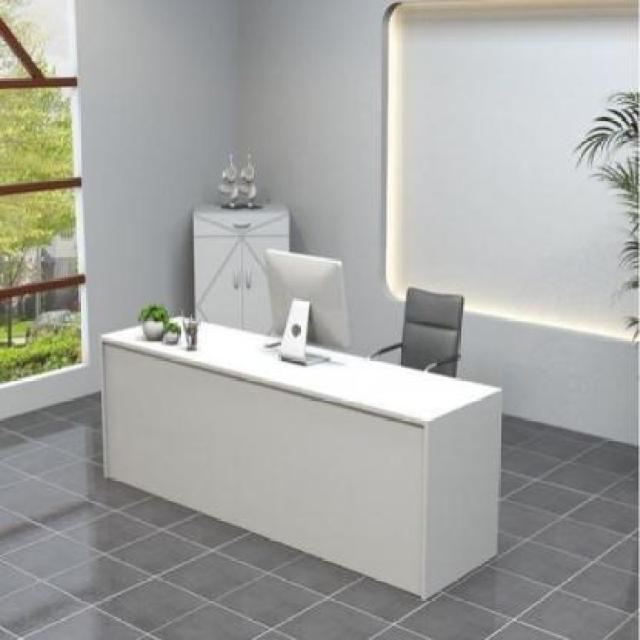frontdesk: (96, 306, 507, 606)
